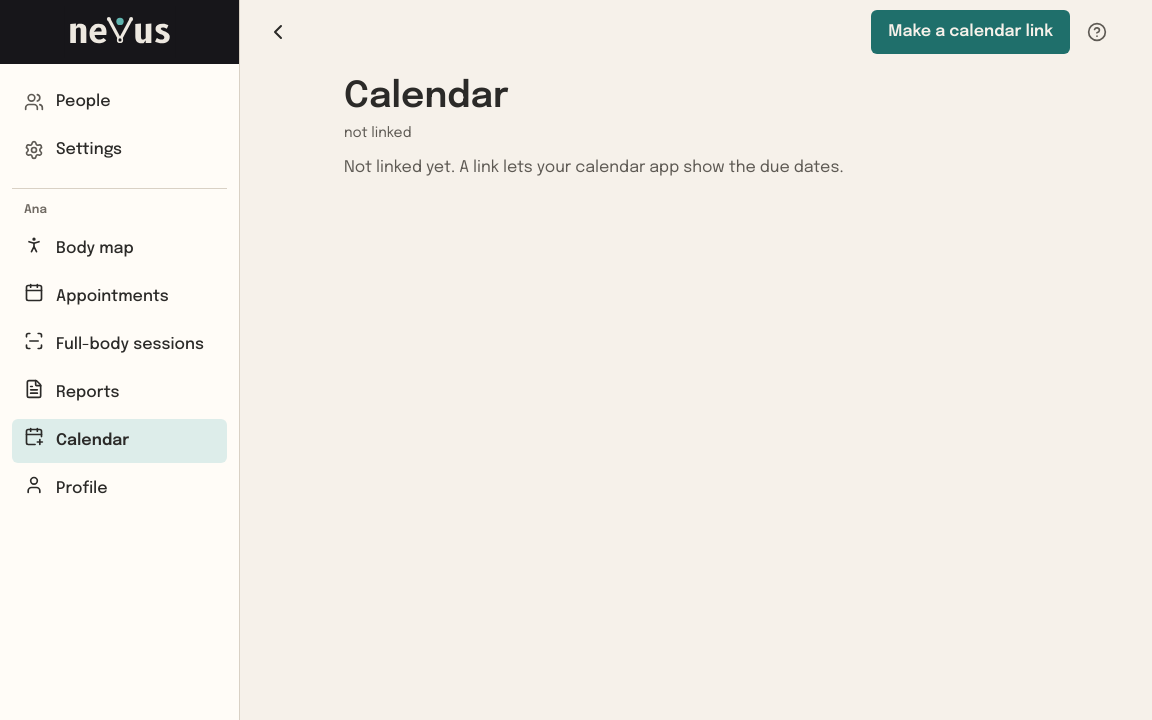
Test: calendar link › shows the link once with a warning, and stops it
This screenshot has width=1152, height=720.
Click the button "Make a calendar link" at [971, 32], box [871,10,1070,54]
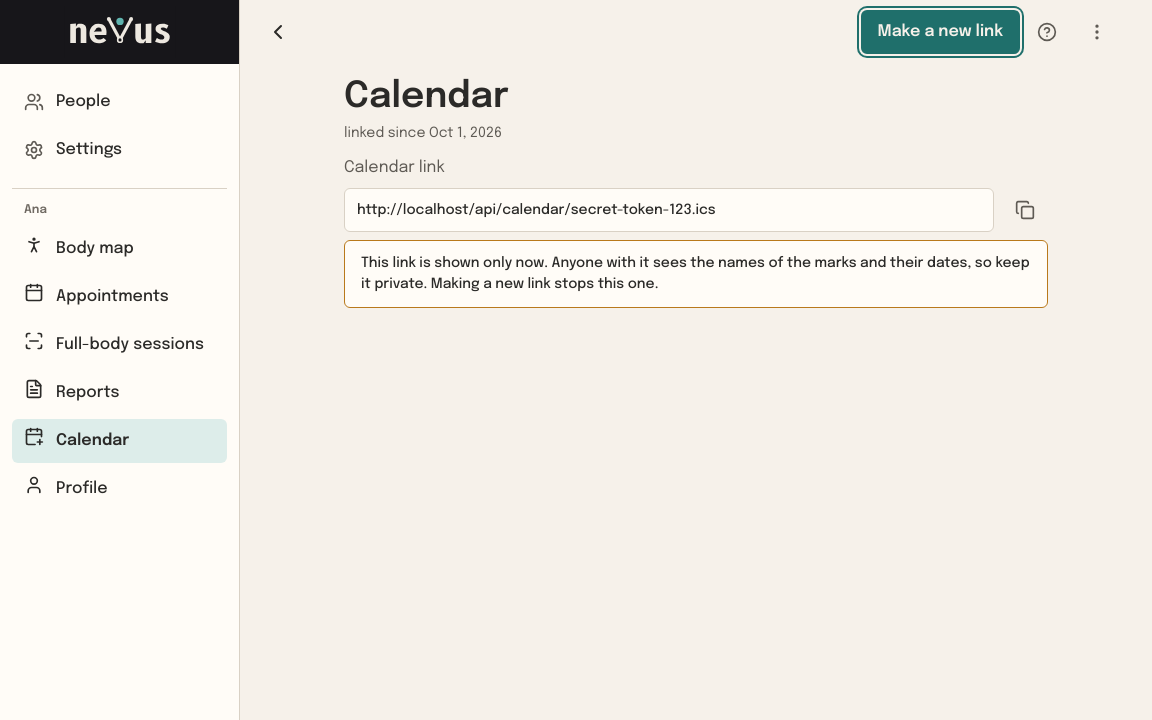
Result: the field named "Calendar link" holds "http://localhost/api/calendar/secret-token-123.ics" at [344,188,994,232]
Result: the text "This link is shown only now" is shown at [361,256,1030,291]
Click the button named "More" at [1097, 32], box [1074,10,1120,54]
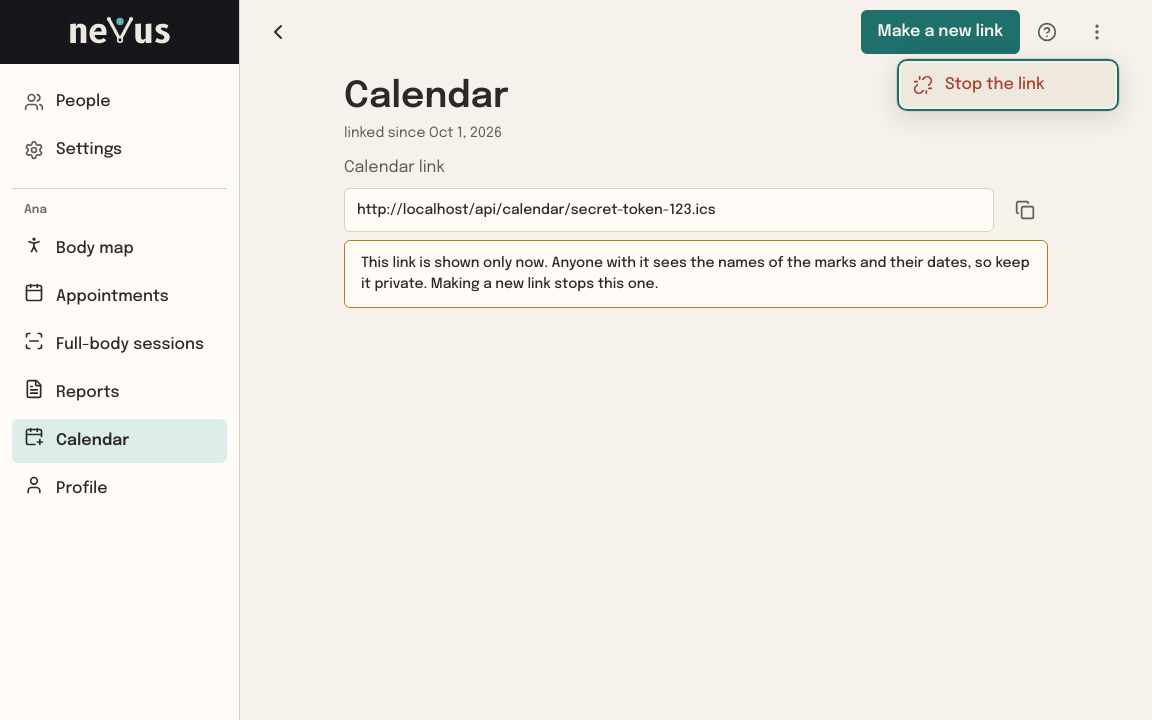
Click the menu item "Stop the link" at [1008, 85], box [901,63,1115,107]
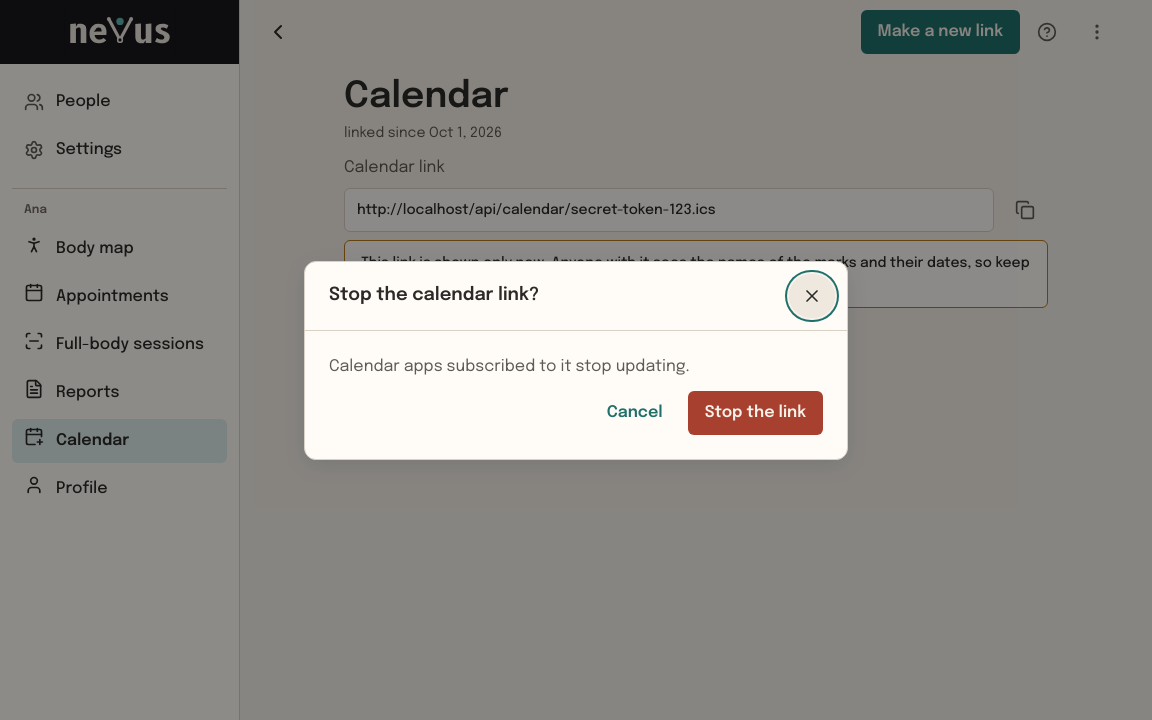
Click the button "Stop the link" at [755, 412], box [688,390,823,434]
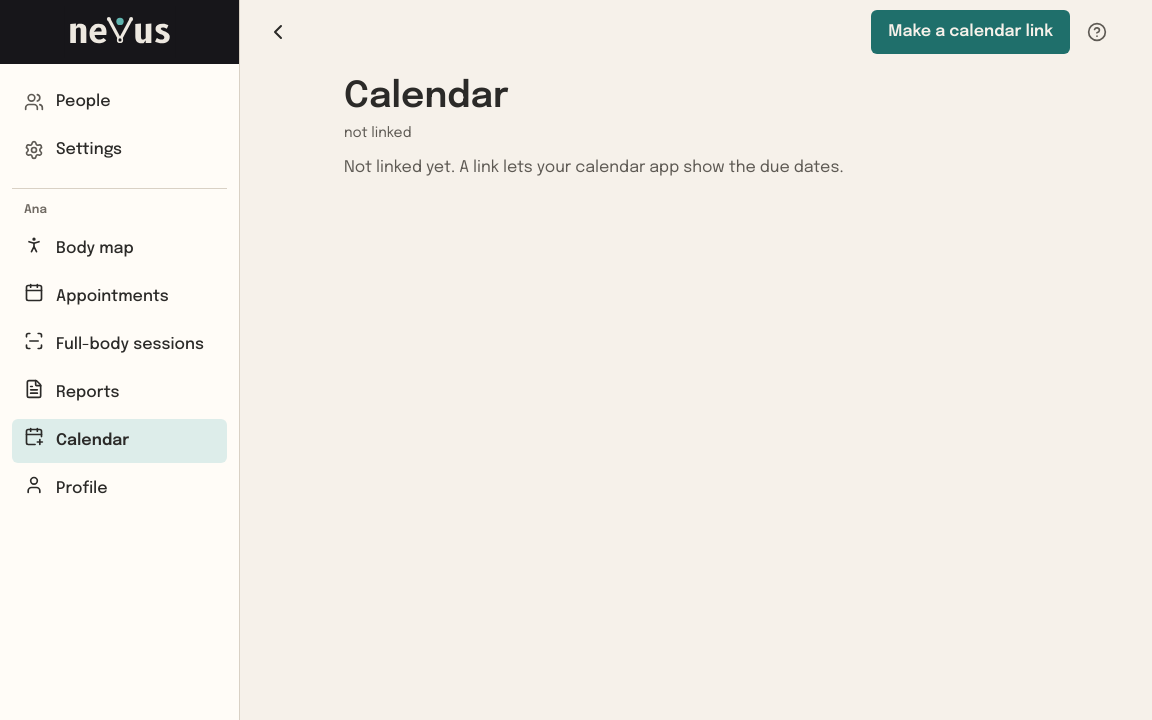
Result: the button "Make a calendar link" is shown at [871,10,1070,54]
